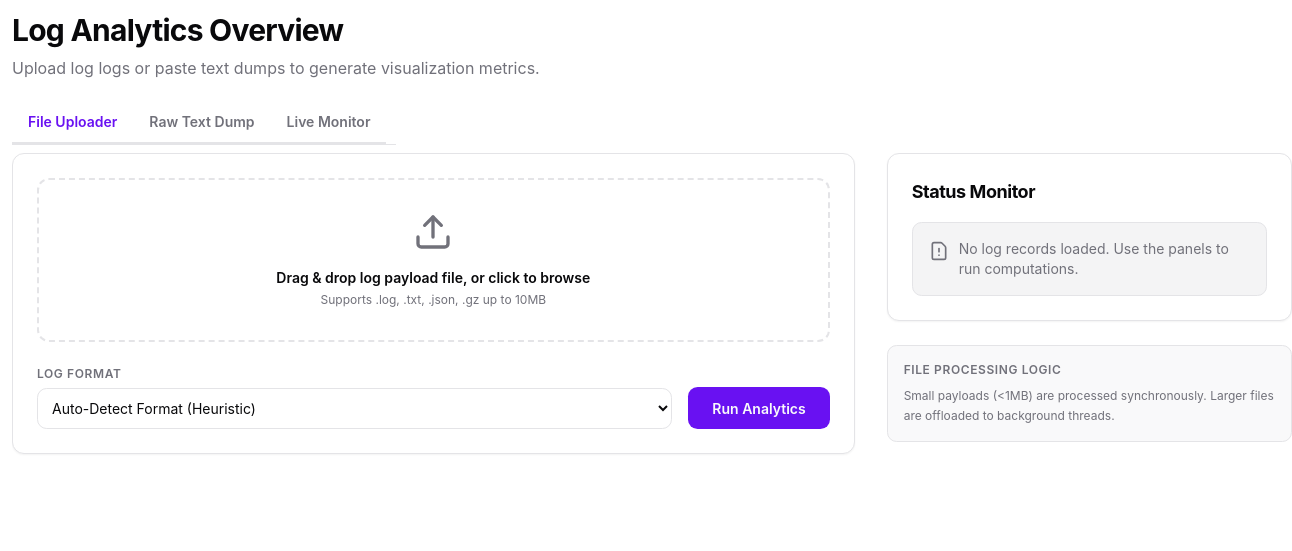
Test: Dashboard page interactive metrics flows › handles empty validation warnings on analyze runs without inputs
Click the button "Run Analytics" at [759, 408], box [688,387,830,429]
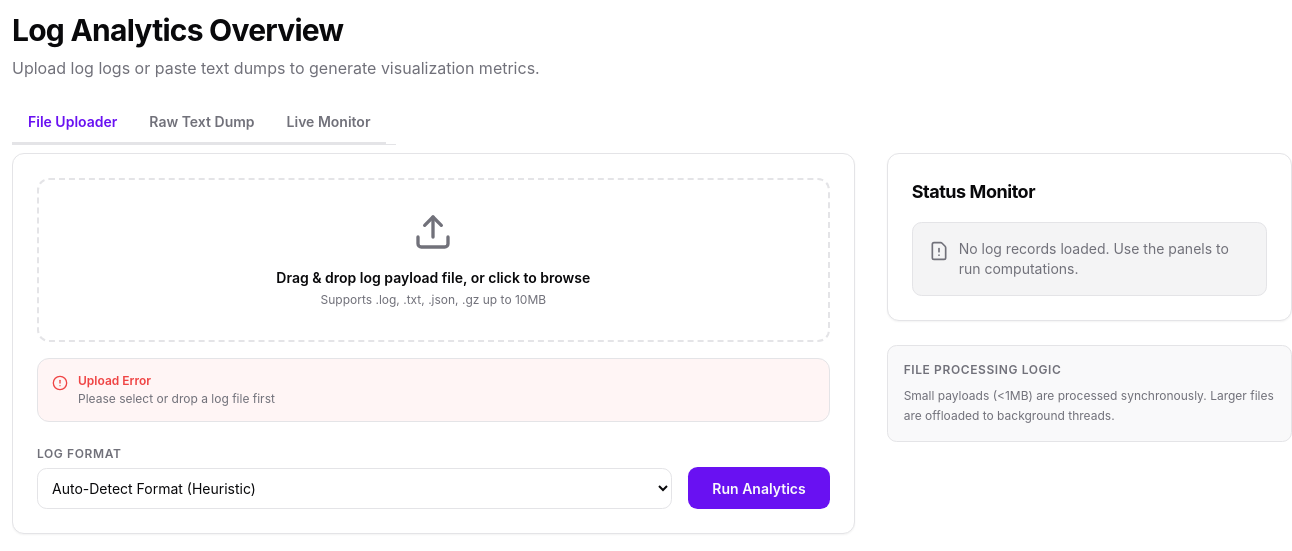
expect the text "Please select or drop a log file first" is shown: met, box [78,391,275,406]
